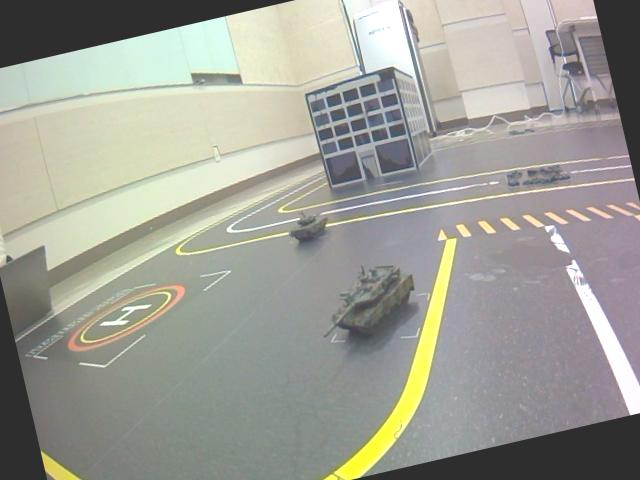Tank: (304, 251, 428, 352), (284, 203, 335, 249)
